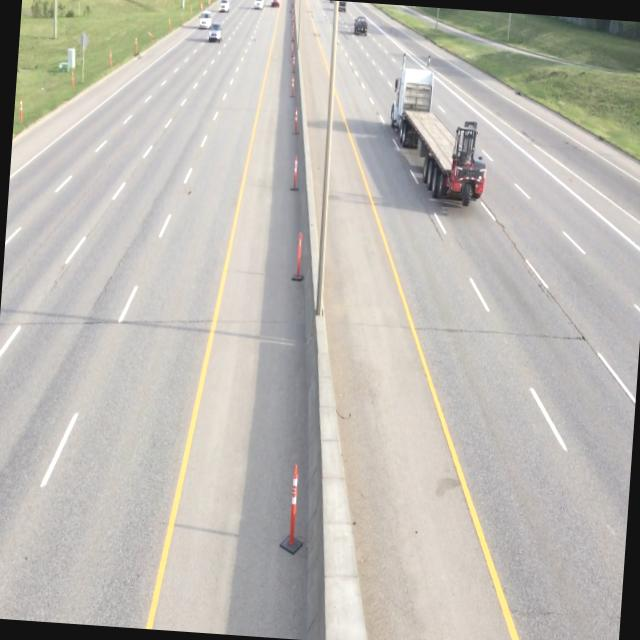Vehicle: (383, 52, 494, 210), (350, 12, 370, 40), (206, 22, 224, 44)
